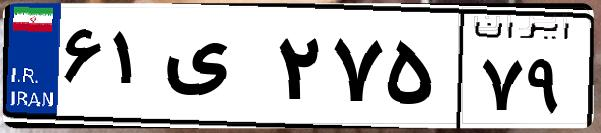1: (110, 28, 158, 98)
2: (270, 28, 330, 110)
5: (385, 28, 445, 110)
6: (57, 26, 110, 100)
7: (330, 28, 385, 110), (475, 38, 525, 113)
9: (525, 38, 570, 115)
ی: (158, 20, 270, 120)
